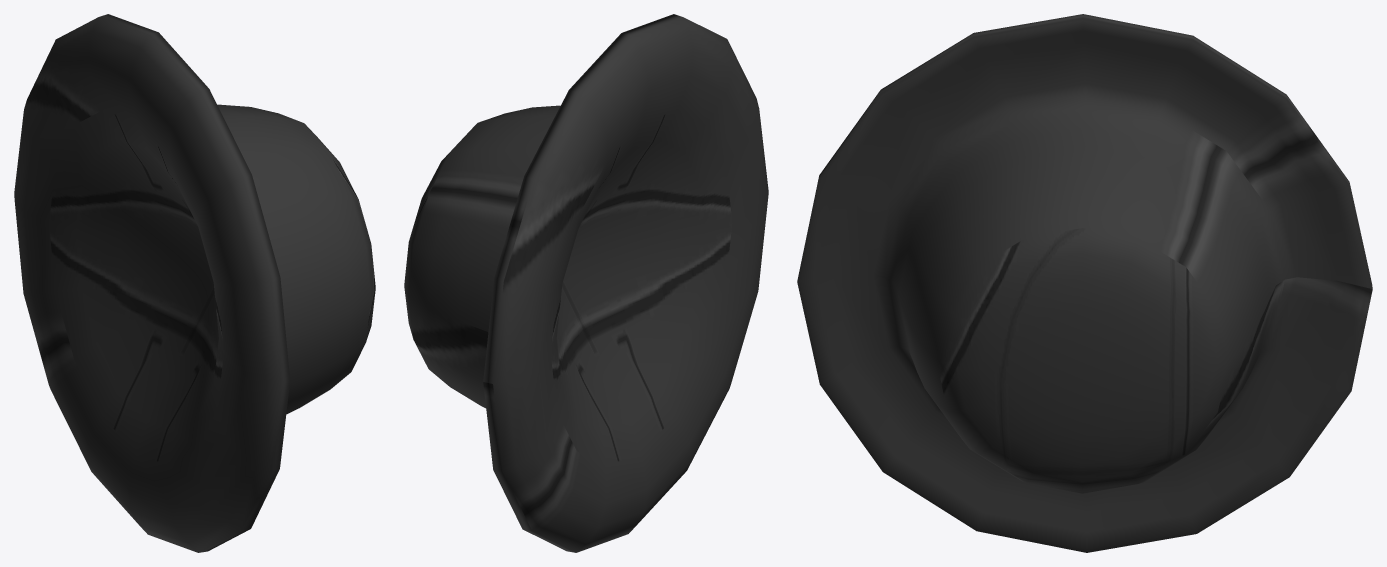
Rendered from pm0281_00_kirlia_fashionweek_hat.fbx.
3 views of the same model, side by side, from view 1: azimuth 30°, elevation 25°; view 2: azimuth 150°, elevation 25°; view 3: azimuth 270°, elevation 25° (orthographic). The views are drawn at different scales.
Visible parts, largest first — view 1: fashionweek_hatSkin; view 2: fashionweek_hatSkin; view 3: fashionweek_hatSkin.
Boxes of the visible parts, left/top/right/bottom form: fashionweek_hatSkin: left=14, top=14, right=375, bottom=552; fashionweek_hatSkin: left=404, top=14, right=768, bottom=552; fashionweek_hatSkin: left=797, top=14, right=1372, bottom=552.
Size of the model in its own units: 0.1191 by 0.2845 by 0.2777.
